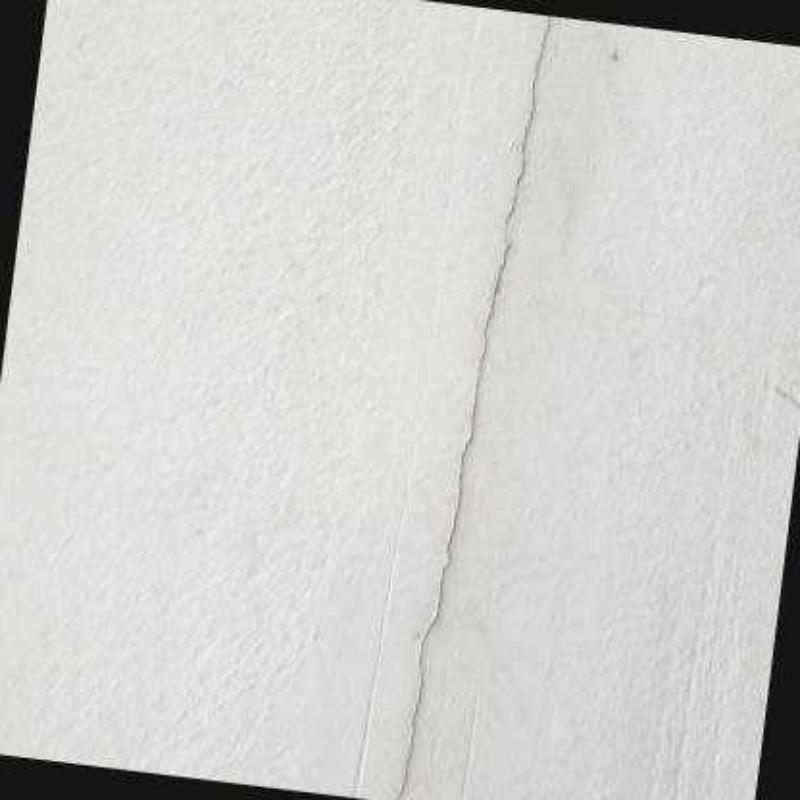pothole: (394, 17, 550, 800)
